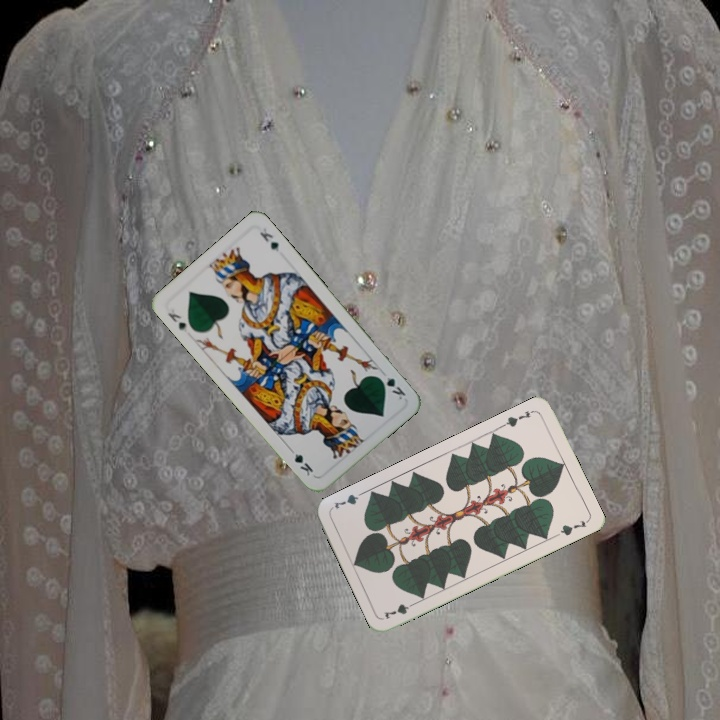G7: (380, 598, 419, 622), (498, 406, 537, 430)
GK: (374, 372, 408, 402), (163, 308, 190, 335)
